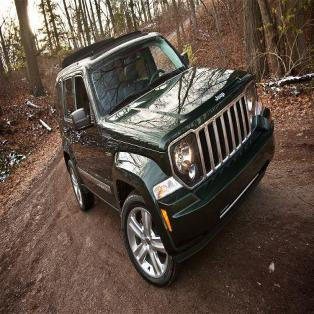Auto: (53, 29, 276, 291)
